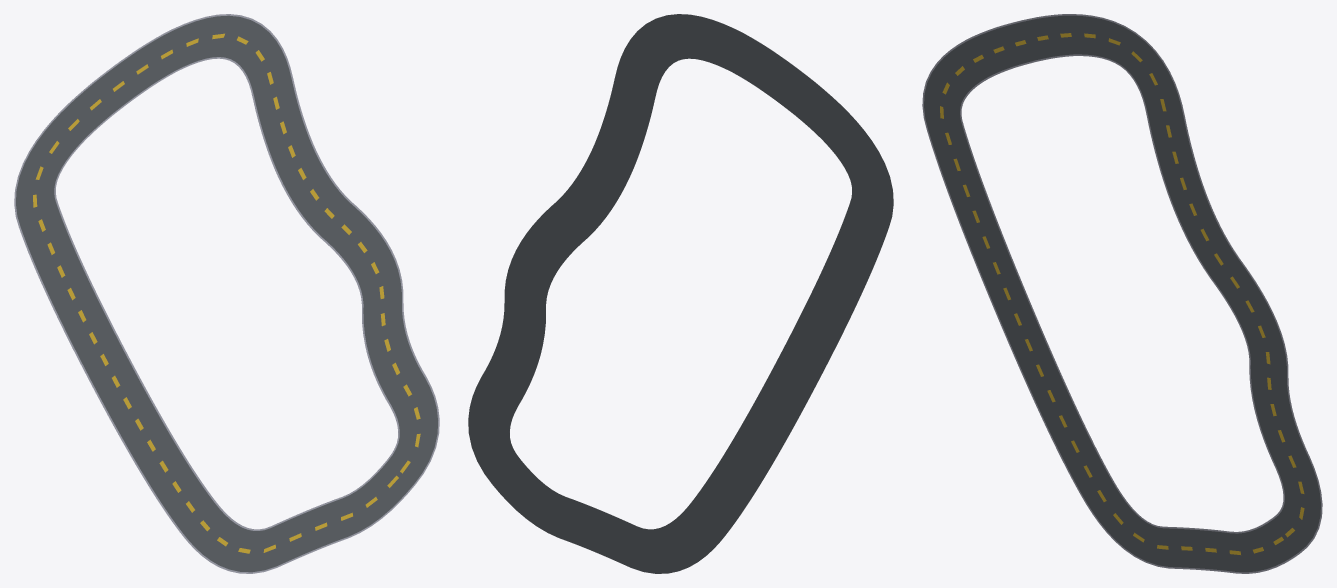
The model's file is track.obj.
The picture shows the model from 3 angles, left to right: view 1: azimuth 30°, elevation 25°; view 2: azimuth 150°, elevation 25°; view 3: azimuth 330°, elevation 25°; orthographic projection. The views are drawn at different scales.
Size of the model in its own units: 10.63 by 13.6 by 0.002.
